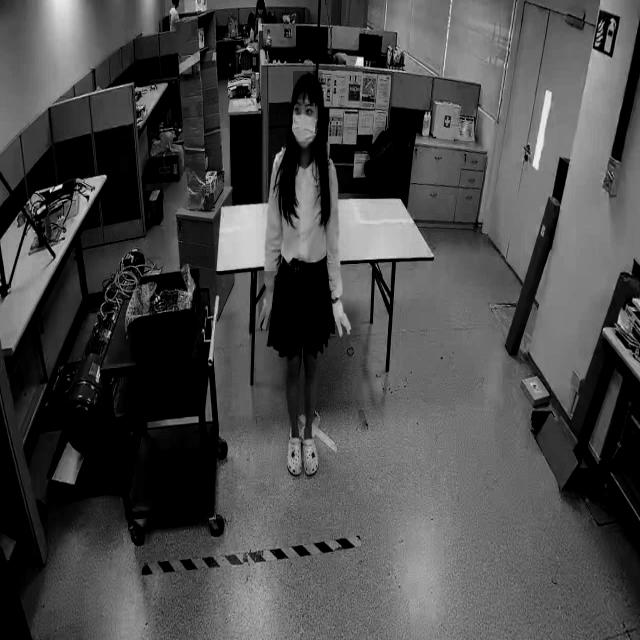face_mask: (292, 106, 317, 141), (257, 0, 264, 16)
hand_glove: (258, 271, 282, 332), (328, 292, 351, 346)
head_nohelmet: (292, 71, 322, 101), (257, 0, 265, 4)
person: (256, 75, 350, 496)
